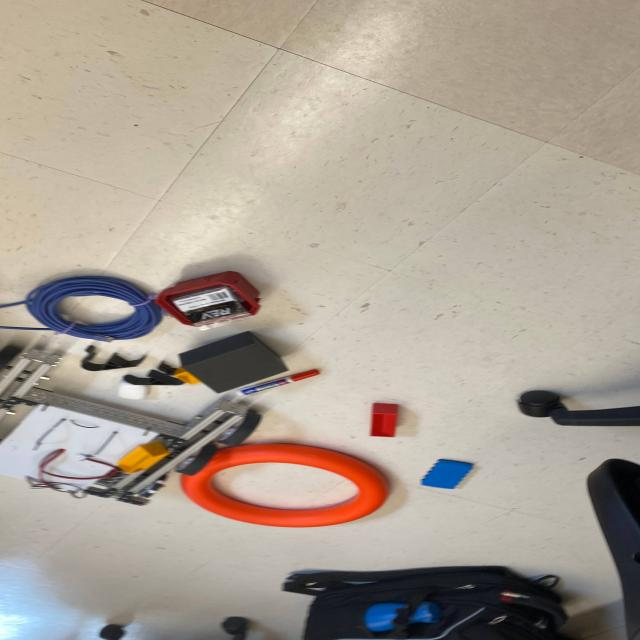red-specimen: (371, 403, 399, 437)
yellow-specimen: (117, 442, 170, 474), (174, 368, 201, 384)
